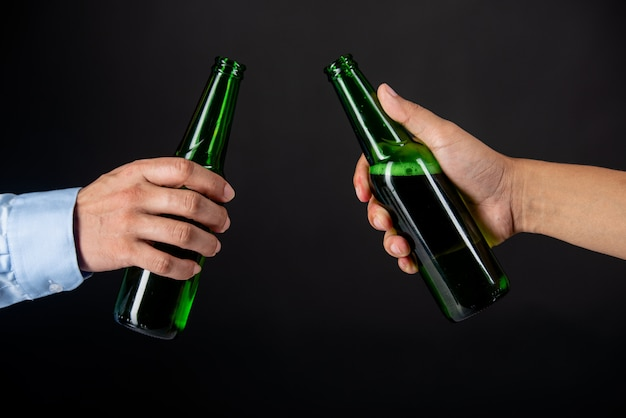alcohol: (322, 51, 514, 326), (115, 57, 245, 342)
